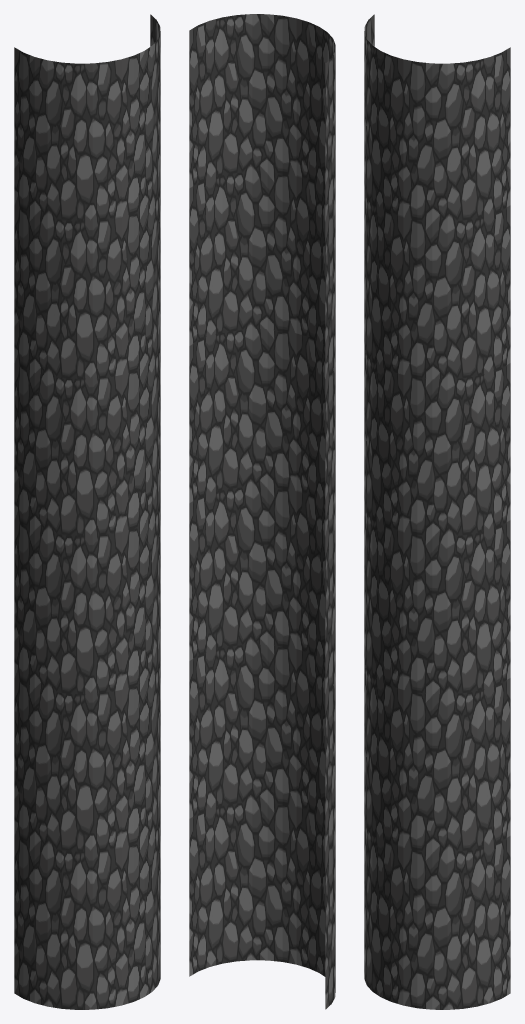
File: skyDome.obj
3 views of the same model, side by side, from view 1: azimuth 30°, elevation 25°; view 2: azimuth 150°, elevation 25°; view 3: azimuth 330°, elevation 25° (orthographic).
Visible parts, largest first — view 1: 円柱.001; view 2: 円柱.001; view 3: 円柱.001.
Boxes of the visible parts, bbox=[...] form: 円柱.001: bbox=[14, 14, 160, 1009]; 円柱.001: bbox=[189, 14, 335, 1009]; 円柱.001: bbox=[364, 14, 510, 1009].
Bounding box in the file's own units: 124 × 825 × 61.98.
3 materials, 3 textured.
